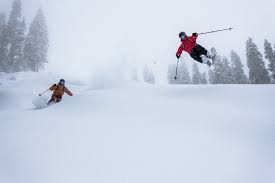skis: (205, 43, 218, 67), (38, 102, 59, 107)
